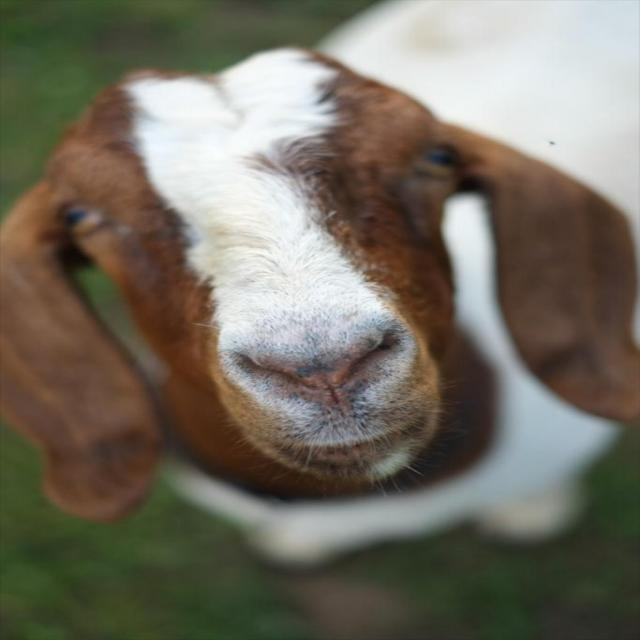Goat: (0, 1, 638, 577)
